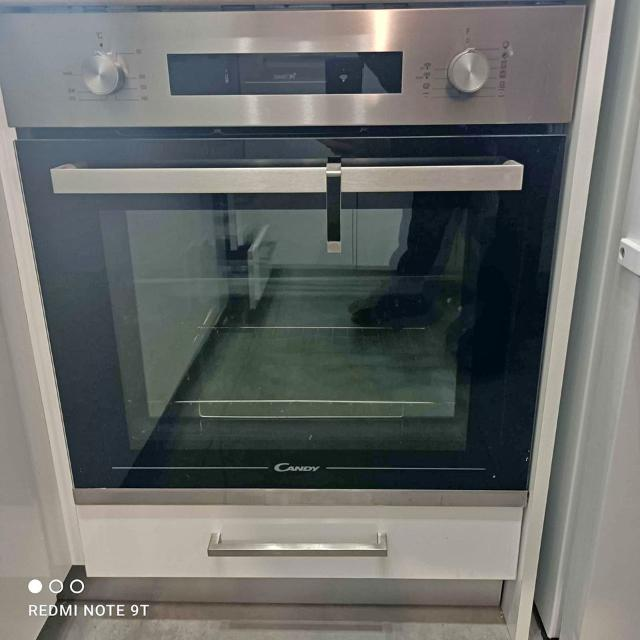Oven: (1, 4, 574, 512)
